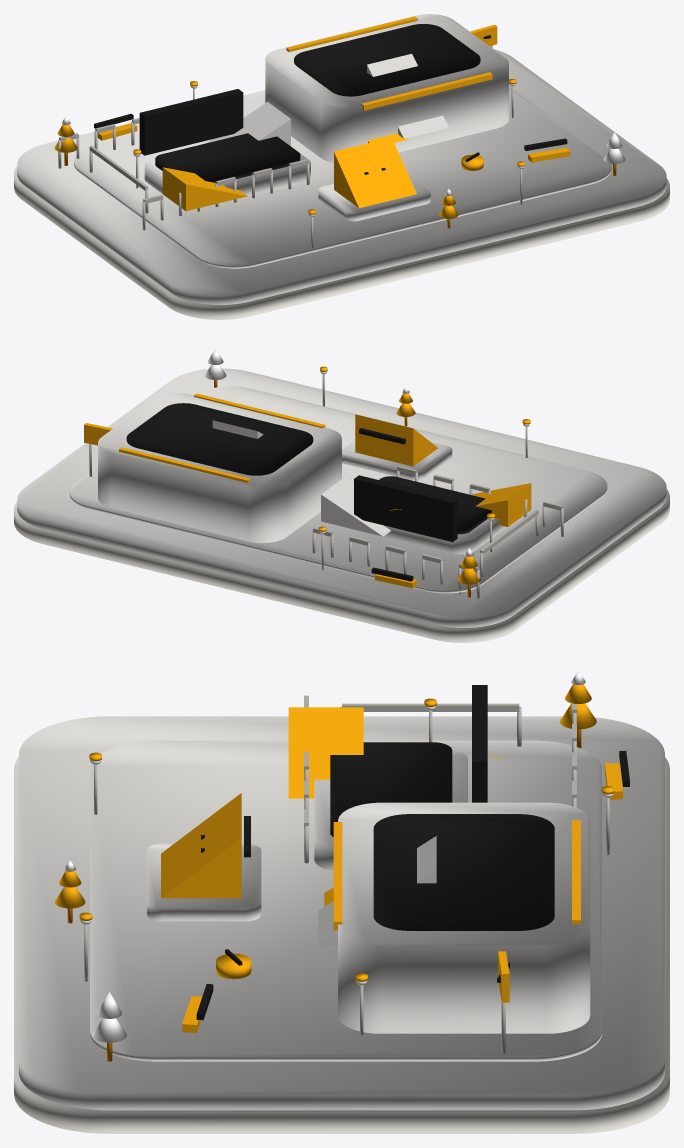
Rendered from zona_skate.glb.
3 views of the same model, one above another, from view 1: azimuth 30°, elevation 25°; view 2: azimuth 150°, elevation 25°; view 3: azimuth 270°, elevation 25° (orthographic). The views are drawn at different scales.
Visible parts, largest first — view 1: skate platform top, subtle skate park floor guide, large skate bowl white outer, skate platform side, large skate bowl black cavity, left black back wall, left skate black ride surface, center yellow kicker ramp, left yellow bank ramp, center mini ramp base, left skate platform white, left white bank ramp (+3 smaller); view 2: skate platform top, subtle skate park floor guide, large skate bowl white outer, skate platform side, large skate bowl black cavity, left black back wall, center yellow kicker ramp, center mini ramp base, left white bank ramp, left skate platform white, left skate black ride surface, left yellow bank ramp (+2 smaller); view 3: skate platform top, subtle skate park floor guide, large skate bowl white outer, large skate bowl black cavity, skate platform side, left skate black ride surface, center yellow kicker ramp, left yellow bank ramp, center mini ramp base, left skate platform white, left black back wall, large white quarter transition (+4 smaller).
Boxes of the visible parts, x1=… form: skate platform top: x1=17, y1=49, x2=666, y2=304; subtle skate park floor guide: x1=74, y1=86, x2=611, y2=268; large skate bowl white outer: x1=265, y1=14, x2=508, y2=162; skate platform side: x1=14, y1=166, x2=669, y2=319; large skate bowl black cavity: x1=294, y1=24, x2=480, y2=96; left black back wall: x1=139, y1=89, x2=243, y2=155; left skate black ride surface: x1=155, y1=133, x2=300, y2=182; center yellow kicker ramp: x1=334, y1=137, x2=416, y2=208; left yellow bank ramp: x1=162, y1=167, x2=247, y2=211; center mini ramp base: x1=318, y1=176, x2=430, y2=221; left skate platform white: x1=144, y1=152, x2=310, y2=207; left white bank ramp: x1=206, y1=102, x2=290, y2=145; skate platform top: x1=17, y1=368, x2=666, y2=627; subtle skate park floor guide: x1=69, y1=386, x2=607, y2=593; large skate bowl white outer: x1=98, y1=393, x2=341, y2=542; skate platform side: x1=14, y1=489, x2=669, y2=642; large skate bowl black cavity: x1=126, y1=403, x2=313, y2=475; left black back wall: x1=354, y1=475, x2=457, y2=542; center yellow kicker ramp: x1=355, y1=414, x2=437, y2=466; center mini ramp base: x1=342, y1=440, x2=452, y2=480; left white bank ramp: x1=321, y1=477, x2=390, y2=536; left skate platform white: x1=348, y1=518, x2=506, y2=554; left skate black ride surface: x1=379, y1=476, x2=491, y2=534; left yellow bank ramp: x1=472, y1=483, x2=531, y2=526; skate platform top: x1=19, y1=716, x2=664, y2=1110; subtle skate park floor guide: x1=90, y1=740, x2=601, y2=1061; large skate bowl white outer: x1=338, y1=802, x2=590, y2=1033; large skate bowl black cavity: x1=373, y1=814, x2=554, y2=930; skate platform side: x1=14, y1=757, x2=669, y2=1133; left skate black ride surface: x1=330, y1=742, x2=452, y2=836; center yellow kicker ramp: x1=161, y1=793, x2=241, y2=898; left yellow bank ramp: x1=288, y1=707, x2=363, y2=798; center mini ramp base: x1=147, y1=843, x2=261, y2=921; left skate platform white: x1=314, y1=749, x2=467, y2=870; left black back wall: x1=472, y1=685, x2=487, y2=802; large white quarter transition: x1=318, y1=836, x2=436, y2=945.
Size of the model in its own units: 4.6 by 0.865 by 3.33.
